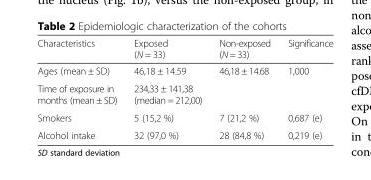table: (36, 36, 332, 140)
table column: (36, 36, 124, 140), (124, 36, 210, 140), (210, 36, 278, 140), (278, 36, 332, 140)
table column header: (36, 36, 332, 62)
table row: (36, 79, 332, 108), (36, 36, 332, 62), (36, 108, 332, 126), (36, 62, 332, 79), (36, 126, 332, 140)
